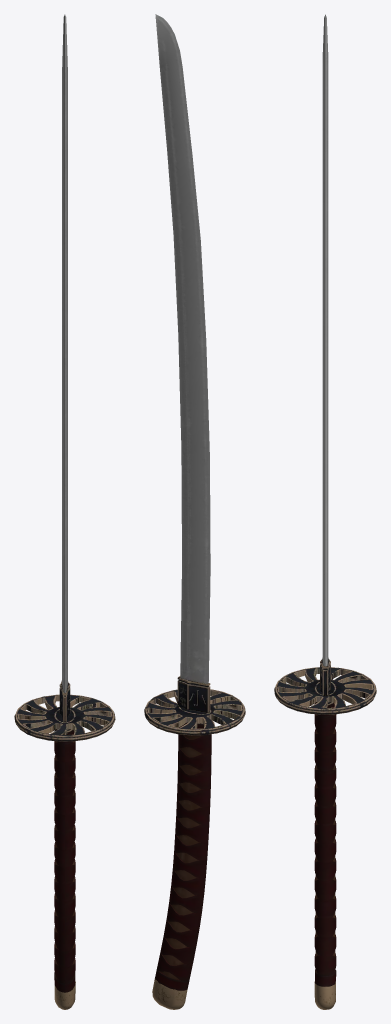
File: antique_katana_01.glb
The picture shows the model from 3 angles, left to right: view 1: azimuth 90°, elevation 25°; view 2: azimuth 150°, elevation 25°; view 3: azimuth 270°, elevation 25°; orthographic projection.
Visible parts, largest first — view 1: antique_katana_01; view 2: antique_katana_01; view 3: antique_katana_01.
Boxes of the visible parts, <box> form: antique_katana_01: <box>14,14,115,1009</box>; antique_katana_01: <box>144,14,245,1009</box>; antique_katana_01: <box>274,14,376,1009</box>.
Size of the model in its own units: 0.0934 by 1 by 0.0934.
Materials: 1 (1 with a texture image).
